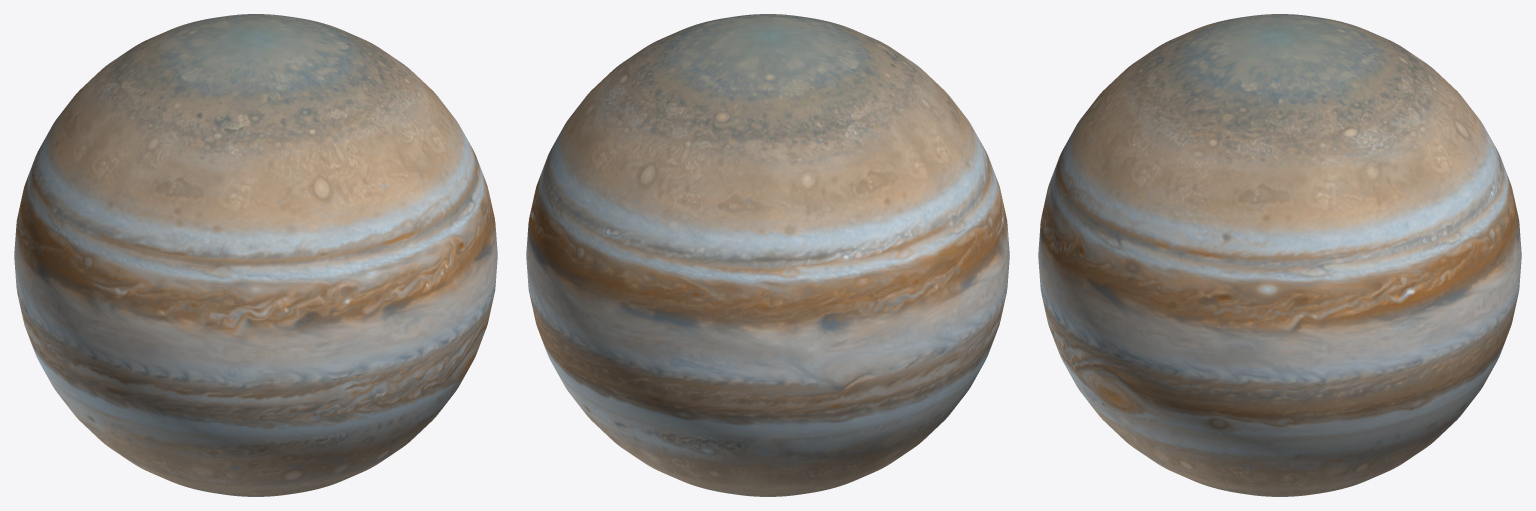
File: jupiter.glb
3 views of the same model, side by side, from view 1: azimuth 30°, elevation 25°; view 2: azimuth 150°, elevation 25°; view 3: azimuth 270°, elevation 25° (orthographic).
Visible parts, largest first — view 1: Sphere; view 2: Sphere; view 3: Sphere.
Boxes of the visible parts, x1,y1,x2,y2 form: Sphere: (14,14,497,496); Sphere: (526,14,1009,496); Sphere: (1038,14,1521,496).
Size of the model in its own units: 1.6 by 1.6 by 1.6.
1 material, 1 textured.
